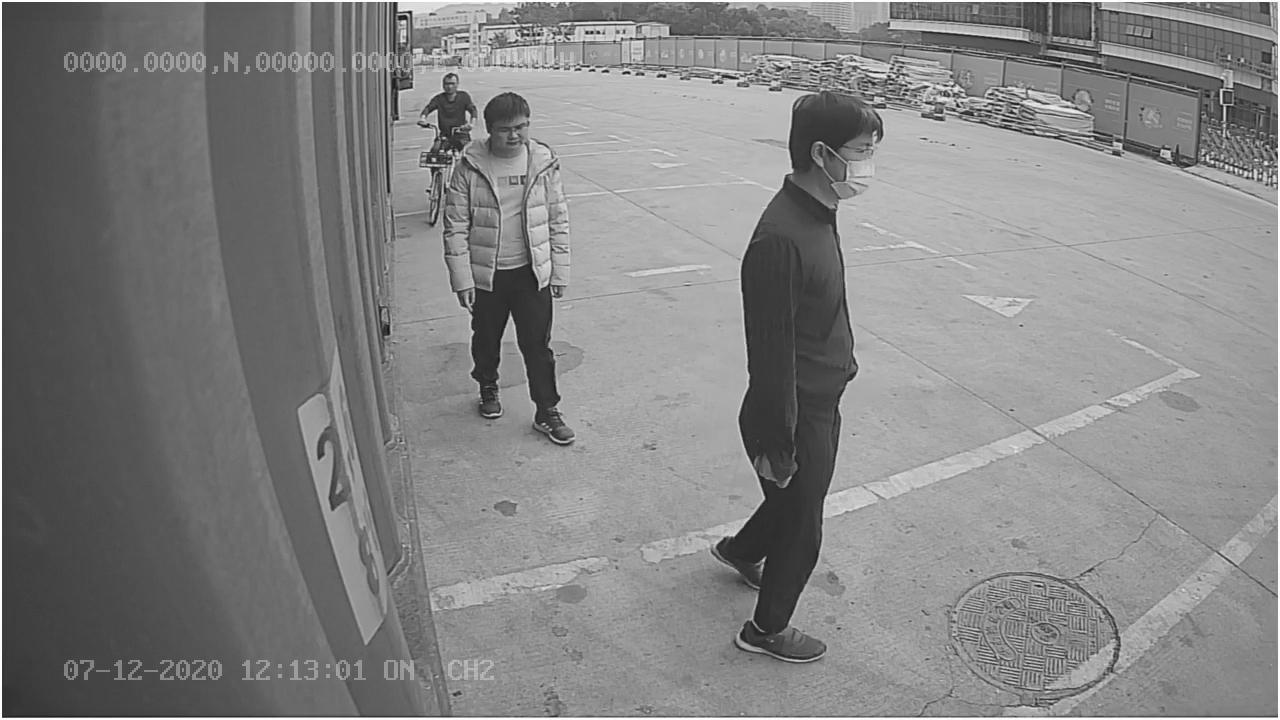person: (708, 88, 886, 661)
